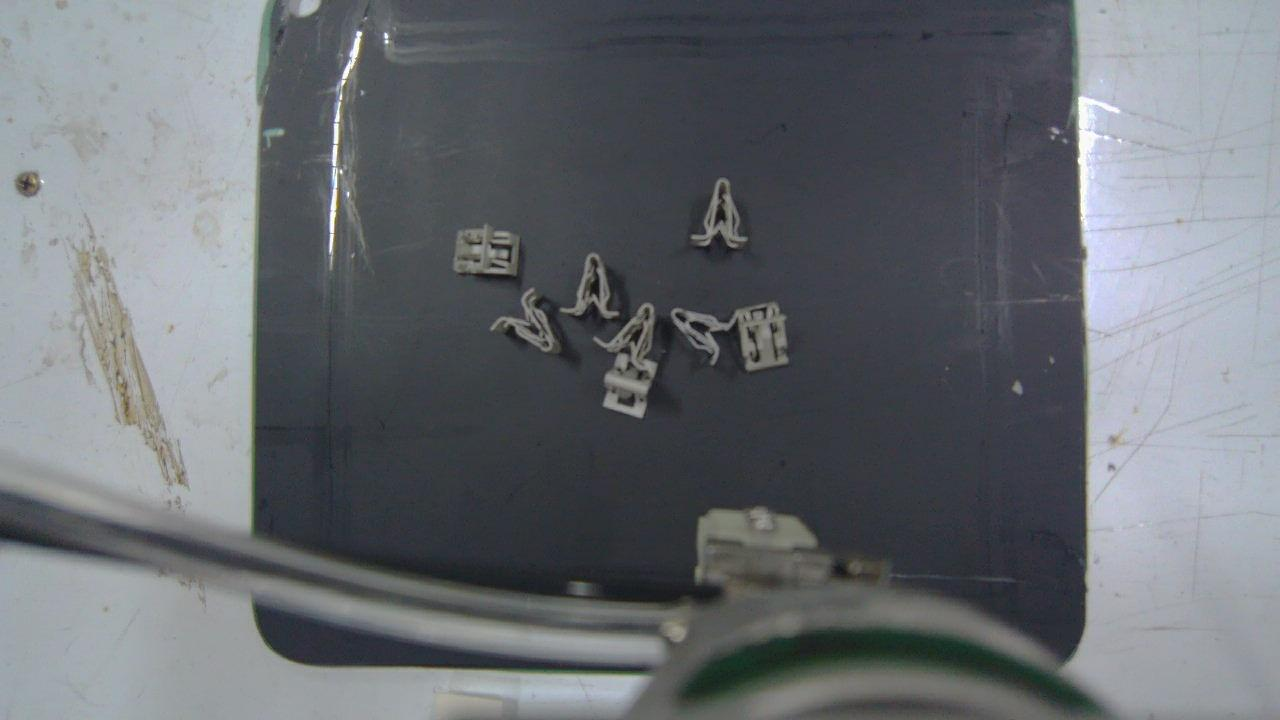ng: (493, 290, 559, 354), (563, 254, 624, 318), (692, 179, 749, 247), (672, 309, 740, 365), (594, 303, 653, 367), (739, 304, 789, 370), (451, 228, 519, 276)
pass: (602, 353, 657, 419)
